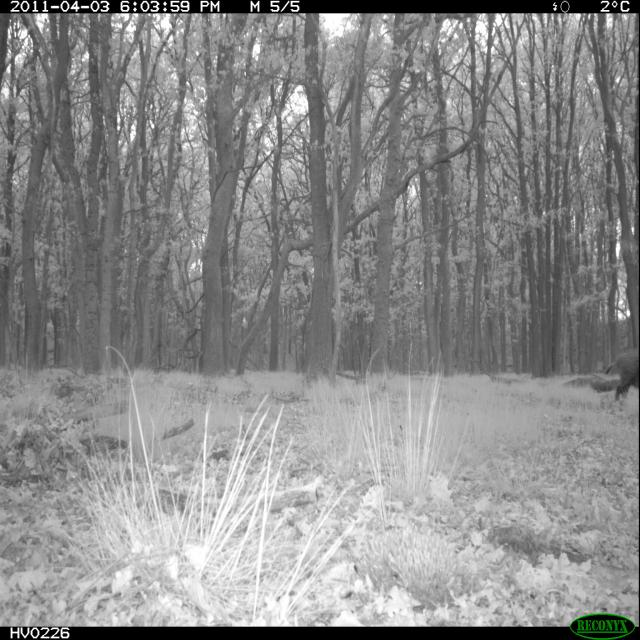boar: (601, 331, 640, 425)
